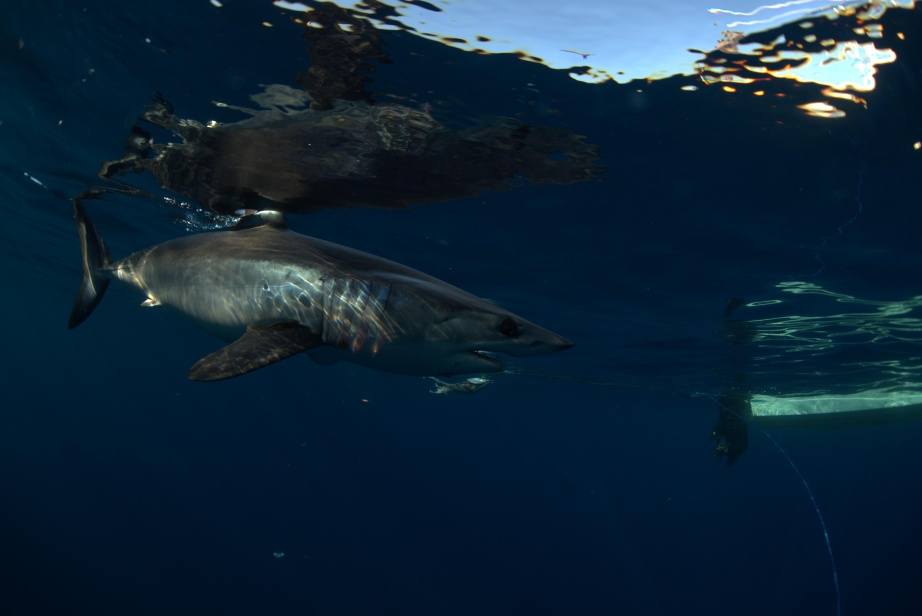Mako: (61, 182, 584, 418)
